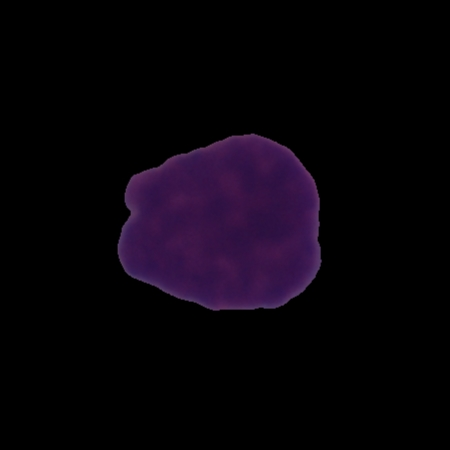ALL: (113, 128, 327, 315)
